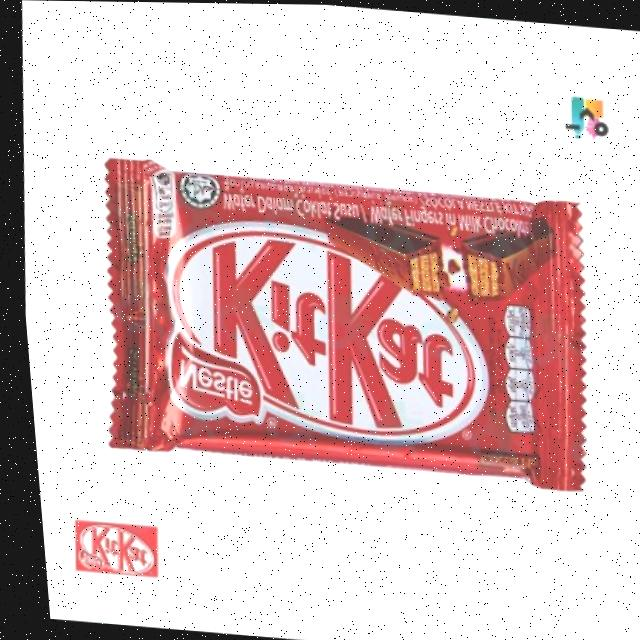kitkat: (80, 159, 598, 488)
